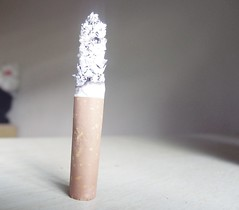cigarette: (68, 11, 109, 202)
